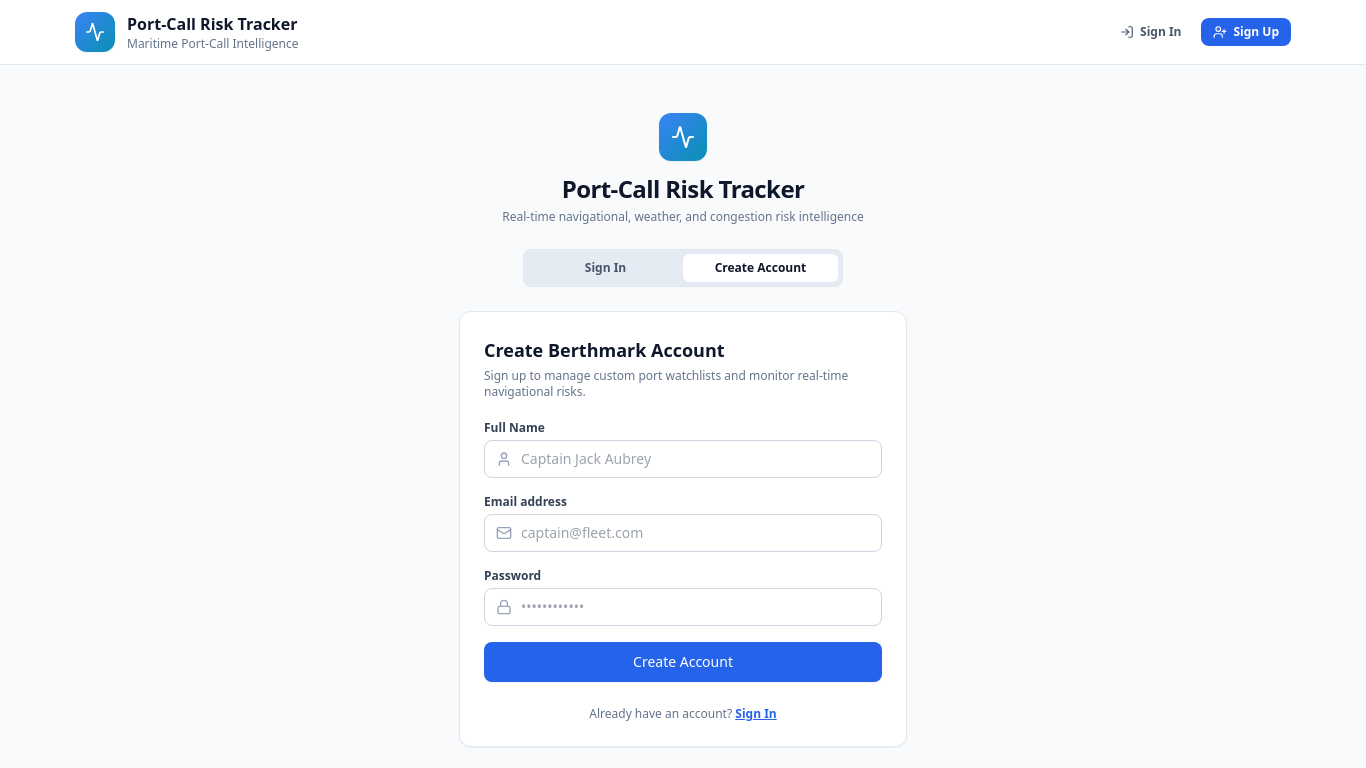
Test: Self-Service User Registration and /signup Route › App Routing with /signup Route › lands newly registered user on the dashboard with user display in header
expect the heading "Create Berthmark Account" is shown: met, box [484, 338, 725, 362]
Type "Admiral Nelson" into the field with test id "signup-name" at (683, 459), box [484, 440, 882, 478]
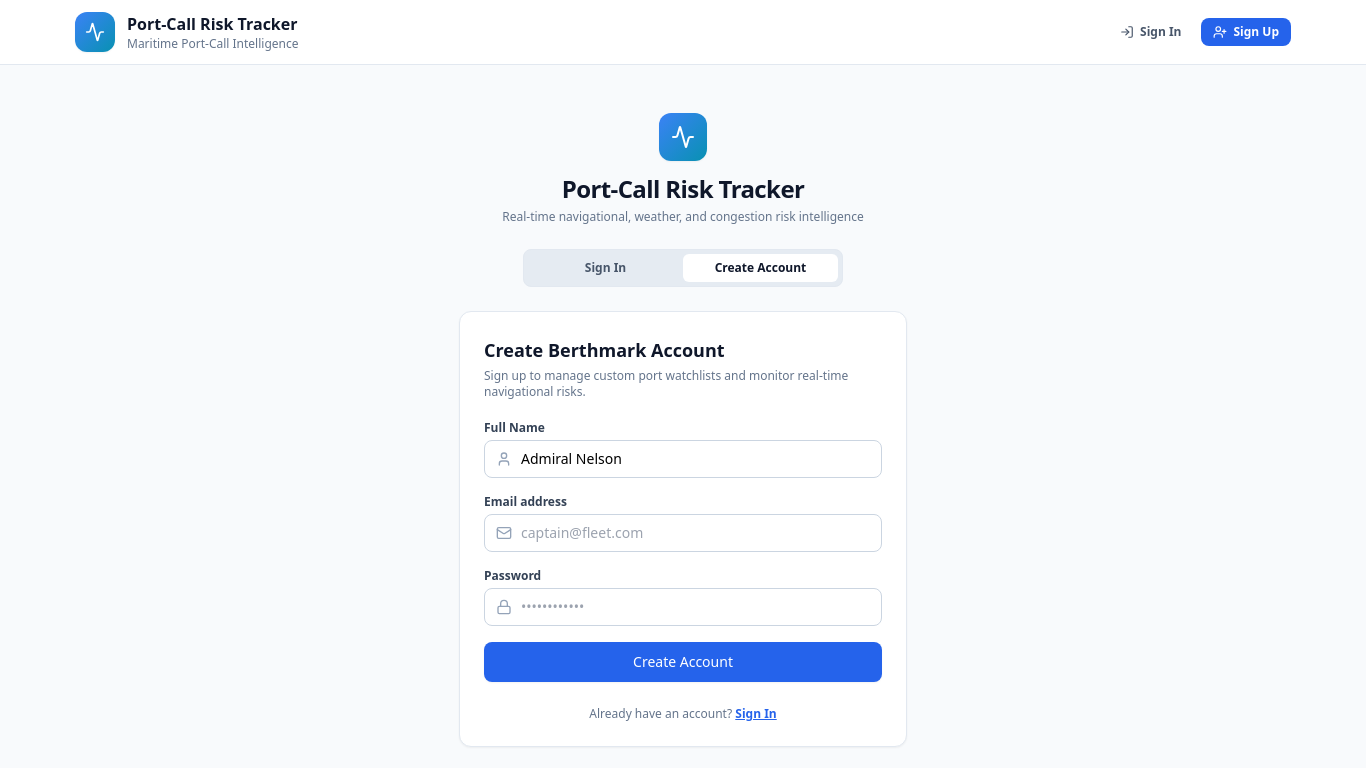
Type "admiral@navy.gov" into the field with test id "signup-email" at (683, 533), box [484, 514, 882, 552]
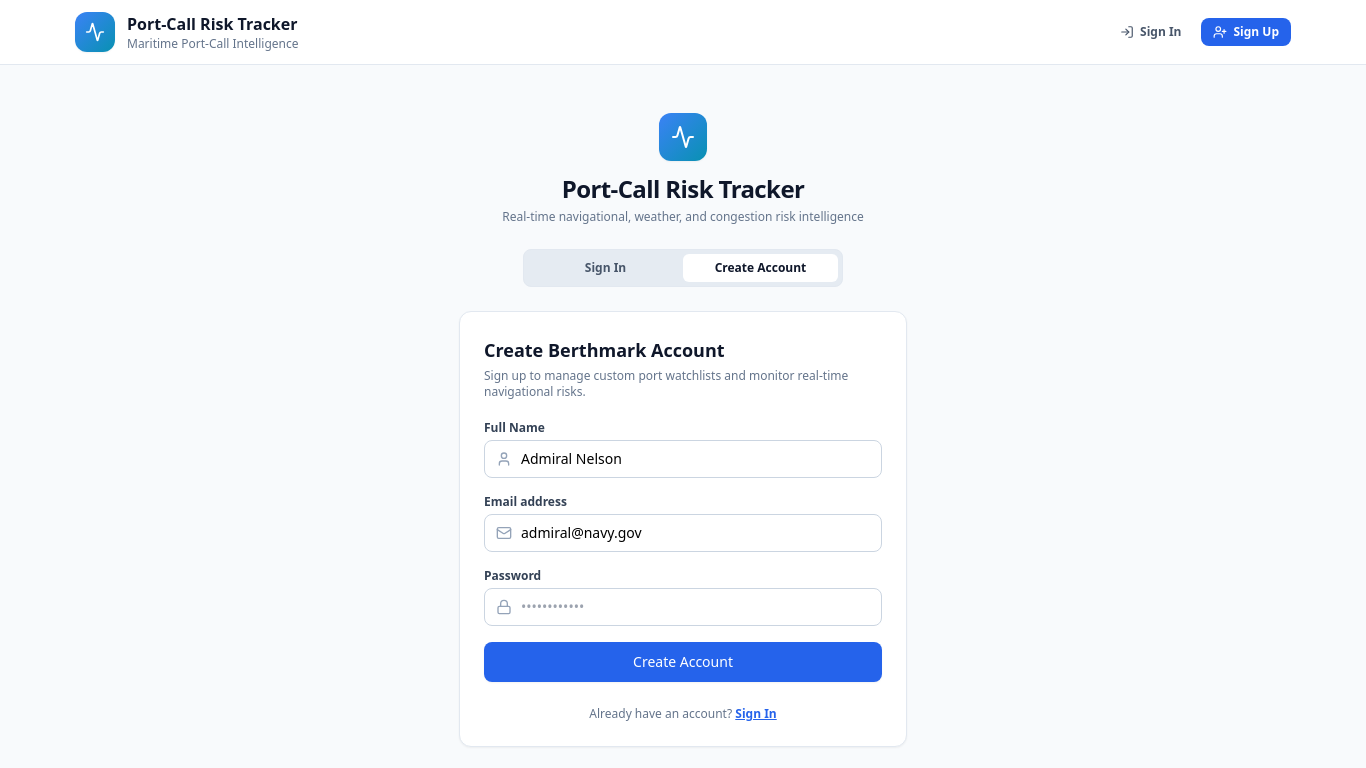
Type "Trafalgar1805!" into the password field with test id "signup-password" at (683, 607), box [484, 588, 882, 626]
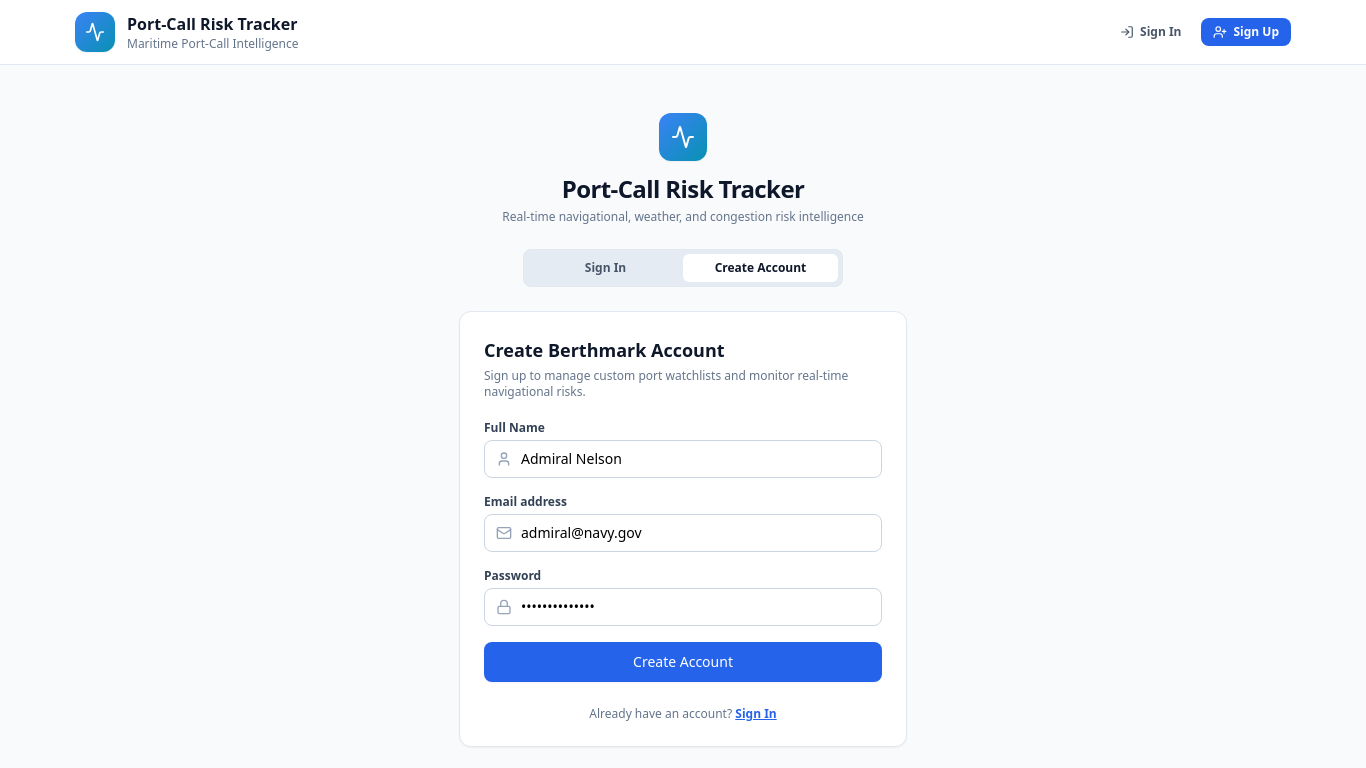
Click the button with test id "signup-submit" at (683, 662), box [484, 642, 882, 682]
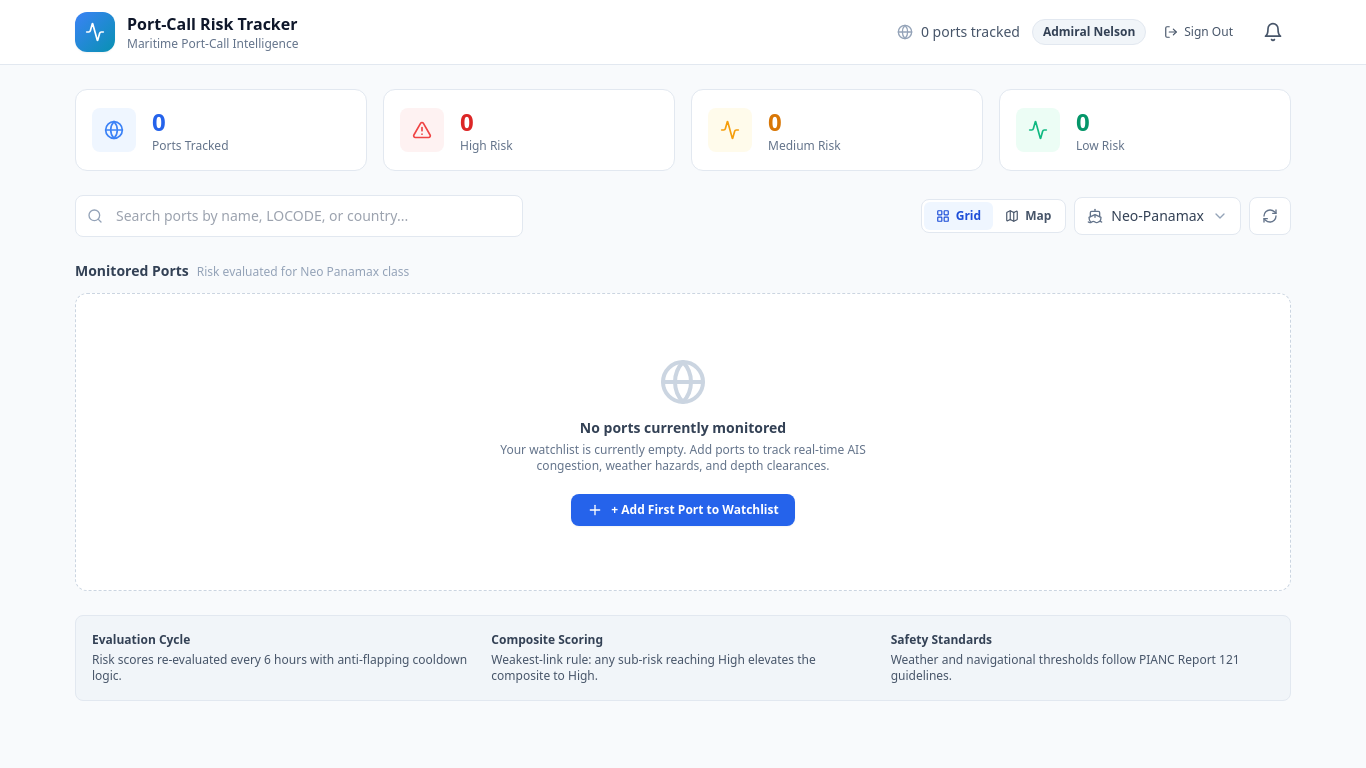
expect the text with test id "user-display" reads "Admiral Nelson": met, box [1043, 23, 1135, 40]
